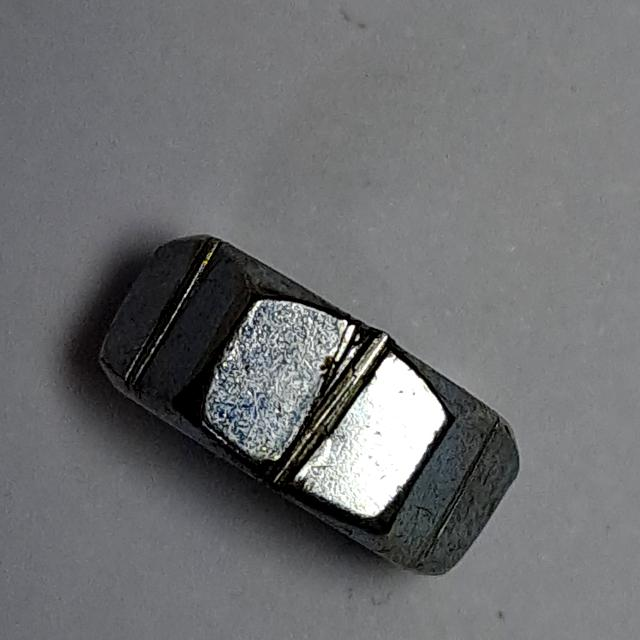Side_Scratches: (85, 216, 536, 589)
